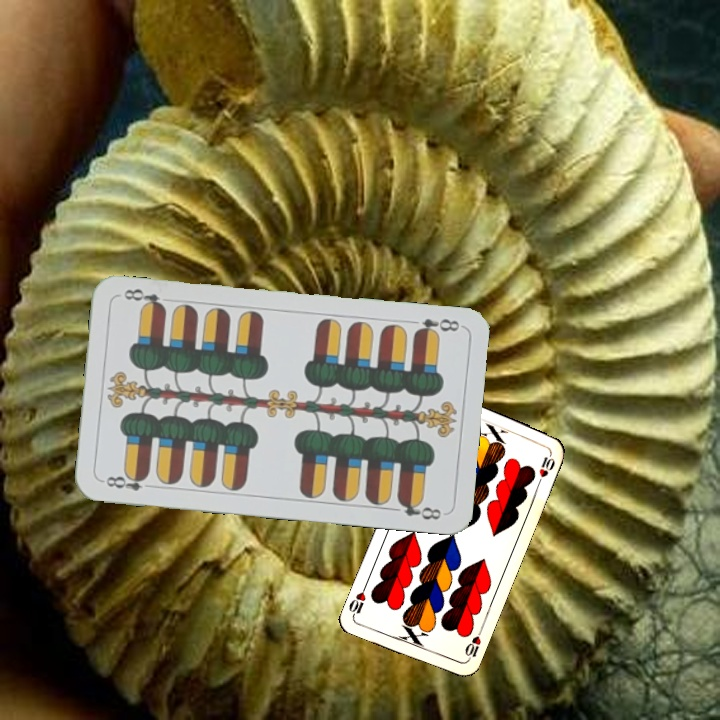E8: (410, 314, 462, 339), (99, 469, 150, 494)
H10: (461, 625, 485, 664)
